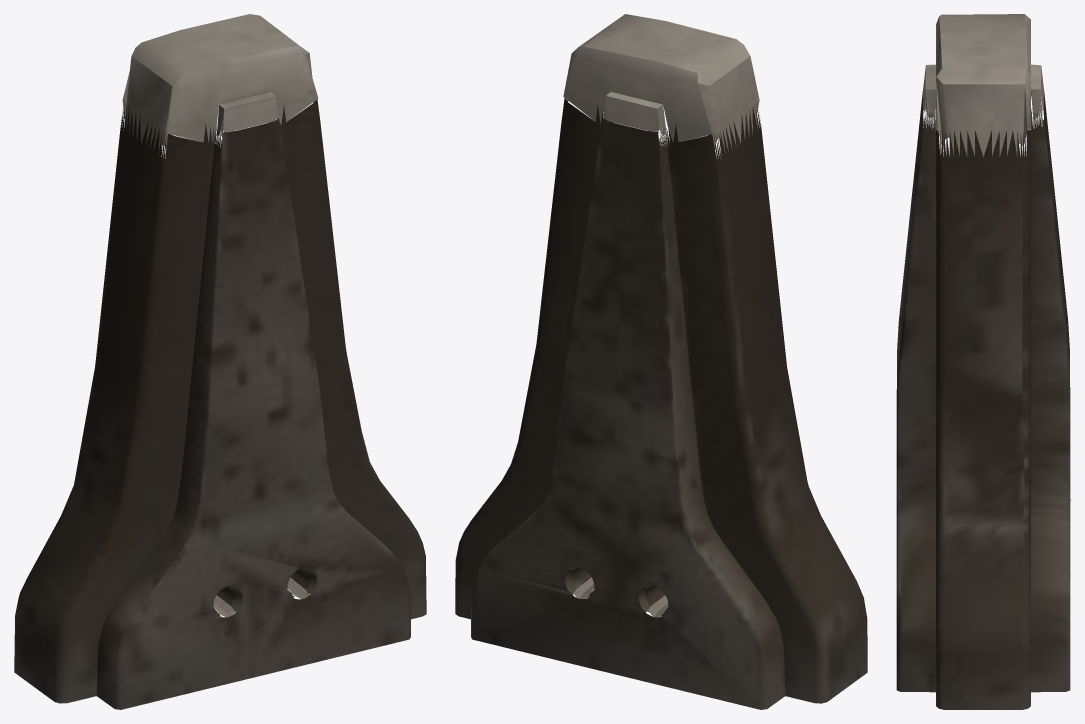
File: stone-wall-pylon.glb
3 views of the same model, side by side, from view 1: azimuth 30°, elevation 25°; view 2: azimuth 150°, elevation 25°; view 3: azimuth 270°, elevation 25° (orthographic). The views are drawn at different scales.
Visible parts, largest first — view 1: body; view 2: body; view 3: body.
Boxes of the visible parts, bbox=[...] form: body: bbox=[14, 14, 426, 709]; body: bbox=[455, 14, 867, 709]; body: bbox=[896, 14, 1070, 709].
Bounding box in the file's own units: 0.8528 × 1.32 × 0.3561.
Materials: 1 (1 with a texture image).
